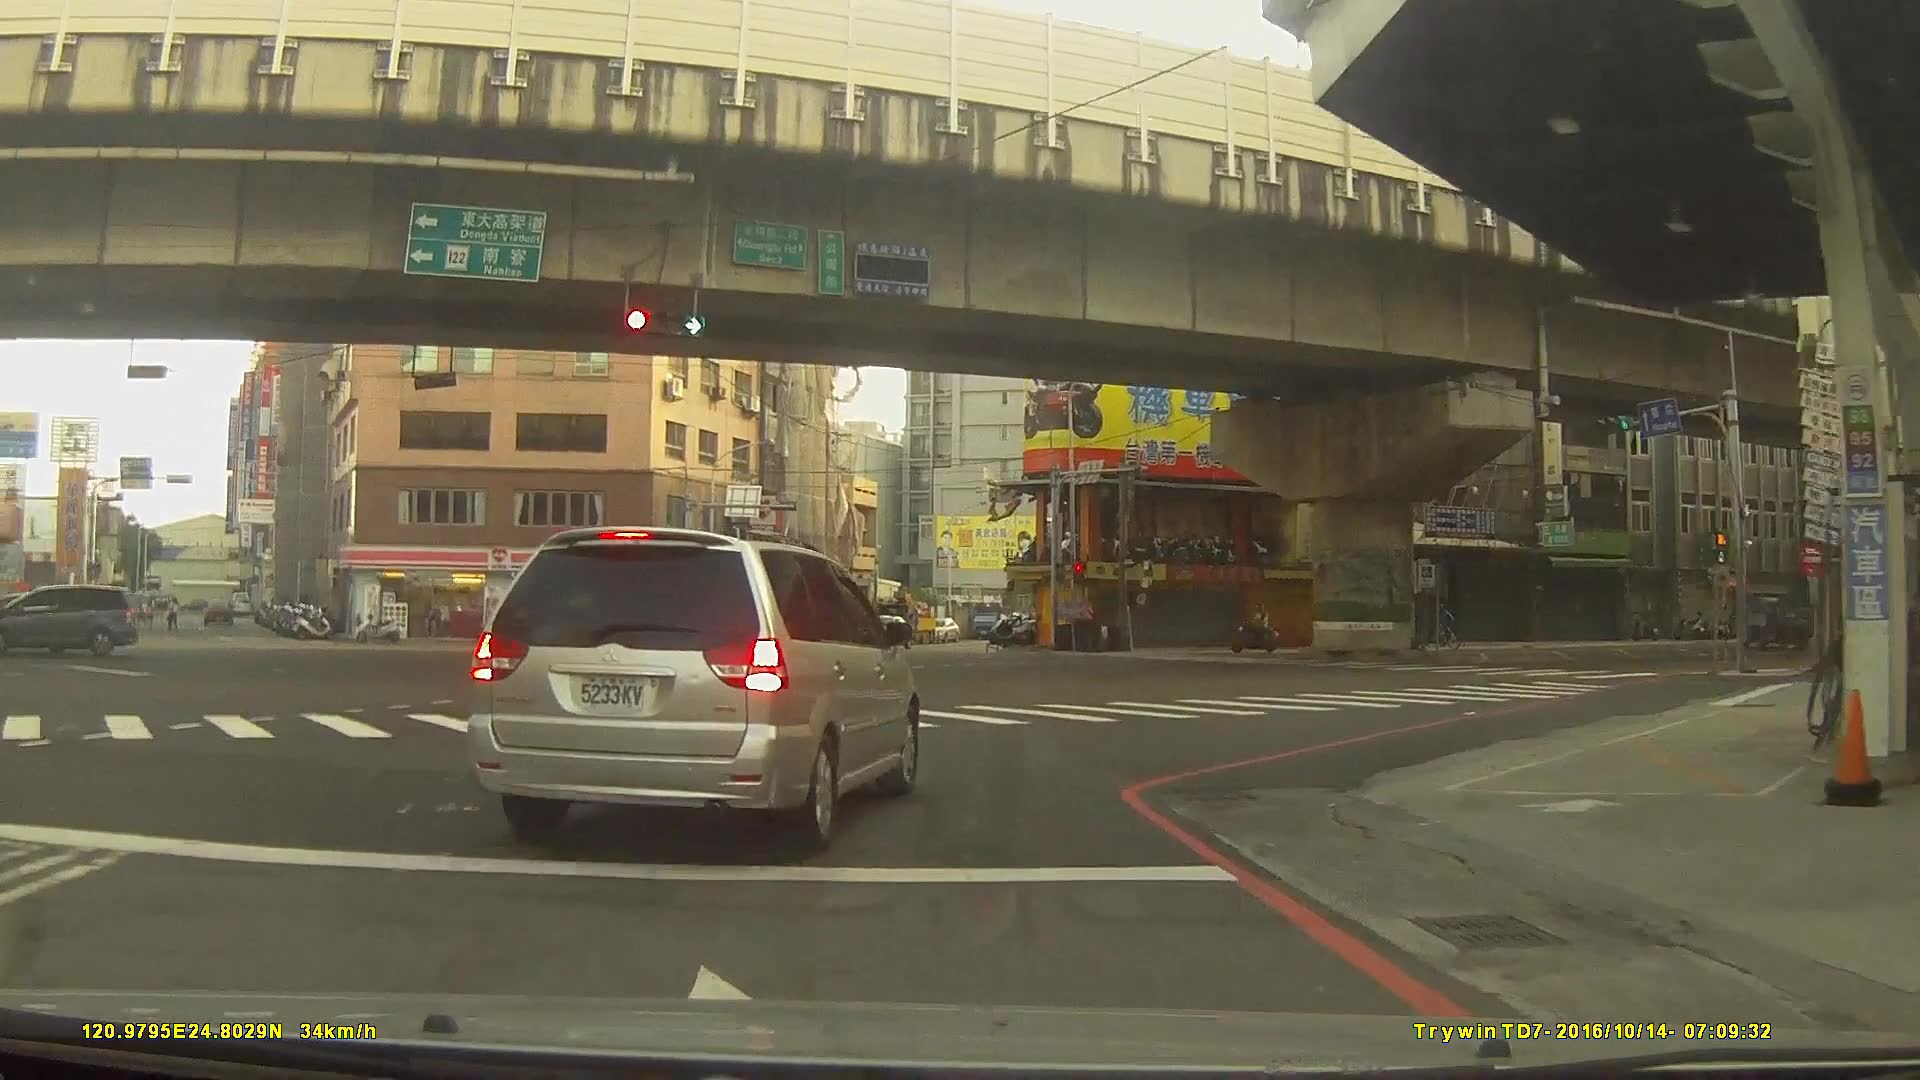rider: (1230, 602, 1280, 654)
vehicle: (468, 523, 919, 851), (0, 579, 137, 654), (1741, 588, 1816, 652), (842, 617, 906, 654), (543, 606, 605, 633), (197, 594, 231, 625)
